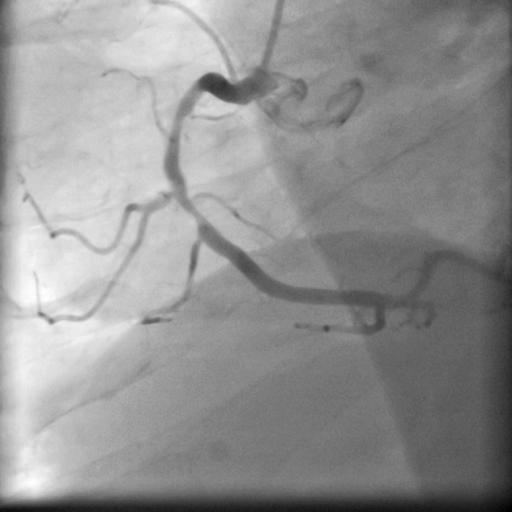Stenosis: (172, 186, 206, 230)
